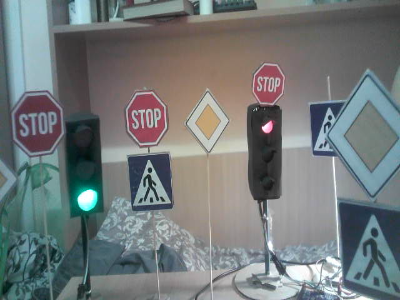crosswalk: (339, 200, 400, 297), (129, 154, 173, 209)
priority_road: (329, 72, 400, 195), (187, 93, 227, 150)
stop: (12, 93, 63, 156), (126, 91, 167, 146), (252, 64, 283, 104)
trafficlight_green: (66, 120, 101, 216)
trafficlight_red: (252, 109, 282, 198)
